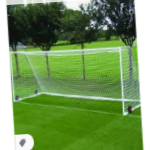goals: (8, 46, 141, 115)
